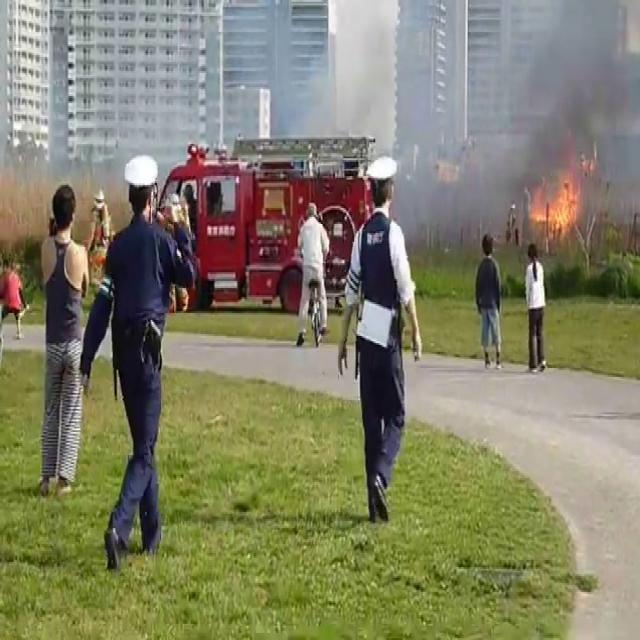Fire: (523, 161, 590, 241)
Smoke: (385, 0, 640, 215)
